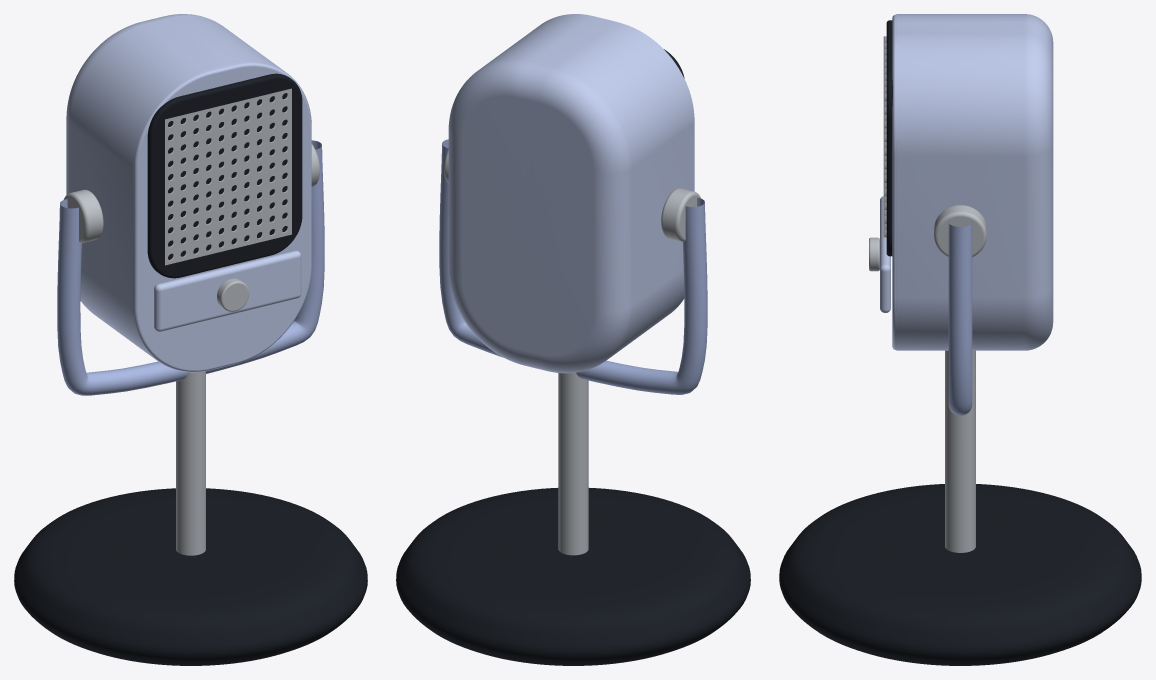
Rendered from studio-microphone.glb.
The picture shows the model from 3 angles, left to right: view 1: azimuth 30°, elevation 25°; view 2: azimuth 150°, elevation 25°; view 3: azimuth 270°, elevation 25°; orthographic projection. The views are drawn at different scales.
Visible parts, largest first — view 1: sculpted-surface, hollow-rounded-housing, microphone-body-/-condenser-capsule-/-perforated-grille-012, fitted-capsule-microphone-front, fitted-rounded-panel, stand-and-yoke-004, microphone-body-/-condenser-capsule-/-perforated-grille-013, stand-and-yoke-003, microphone-body-/-condenser-capsule-/-perforated-grille-007, microphone-body-/-condenser-capsule-/-perforated-grille-014; view 2: hollow-rounded-housing, sculpted-surface, stand-and-yoke-004, stand-and-yoke-003, microphone-body-/-condenser-capsule-/-perforated-grille-007; view 3: sculpted-surface, hollow-rounded-housing, stand-and-yoke-003, stand-and-yoke-004, fitted-rounded-panel, microphone-body-/-condenser-capsule-/-perforated-grille-008, fitted-capsule-microphone-front, microphone-body-/-condenser-capsule-/-perforated-grille-013, microphone-body-/-condenser-capsule-/-perforated-grille-012.
Part boxes in pixels (x1=…): sculpted-surface: x1=14, y1=488, x2=367, y2=665; hollow-rounded-housing: x1=66, y1=14, x2=311, y2=372; microphone-body-/-condenser-capsule-/-perforated-grille-012: x1=165, y1=88, x2=291, y2=265; fitted-capsule-microphone-front: x1=133, y1=62, x2=311, y2=371; fitted-rounded-panel: x1=147, y1=73, x2=302, y2=278; stand-and-yoke-004: x1=57, y1=140, x2=324, y2=395; microphone-body-/-condenser-capsule-/-perforated-grille-013: x1=154, y1=250, x2=301, y2=331; stand-and-yoke-003: x1=176, y1=371, x2=205, y2=555; microphone-body-/-condenser-capsule-/-perforated-grille-007: x1=63, y1=189, x2=103, y2=243; microphone-body-/-condenser-capsule-/-perforated-grille-014: x1=217, y1=278, x2=249, y2=311; hollow-rounded-housing: x1=448, y1=14, x2=694, y2=373; sculpted-surface: x1=396, y1=488, x2=750, y2=665; stand-and-yoke-004: x1=439, y1=139, x2=707, y2=394; stand-and-yoke-003: x1=558, y1=372, x2=588, y2=555; microphone-body-/-condenser-capsule-/-perforated-grille-007: x1=661, y1=188, x2=700, y2=241; sculpted-surface: x1=779, y1=484, x2=1141, y2=665; hollow-rounded-housing: x1=896, y1=14, x2=1053, y2=350; stand-and-yoke-003: x1=945, y1=350, x2=975, y2=552; stand-and-yoke-004: x1=948, y1=221, x2=972, y2=415; fitted-rounded-panel: x1=886, y1=20, x2=892, y2=256; microphone-body-/-condenser-capsule-/-perforated-grille-008: x1=934, y1=205, x2=986, y2=256; fitted-capsule-microphone-front: x1=892, y1=14, x2=896, y2=349; microphone-body-/-condenser-capsule-/-perforated-grille-013: x1=880, y1=196, x2=890, y2=312; microphone-body-/-condenser-capsule-/-perforated-grille-012: x1=883, y1=36, x2=886, y2=237.
Bounding box in the file's own units: 1.13 × 2 × 1.13.
